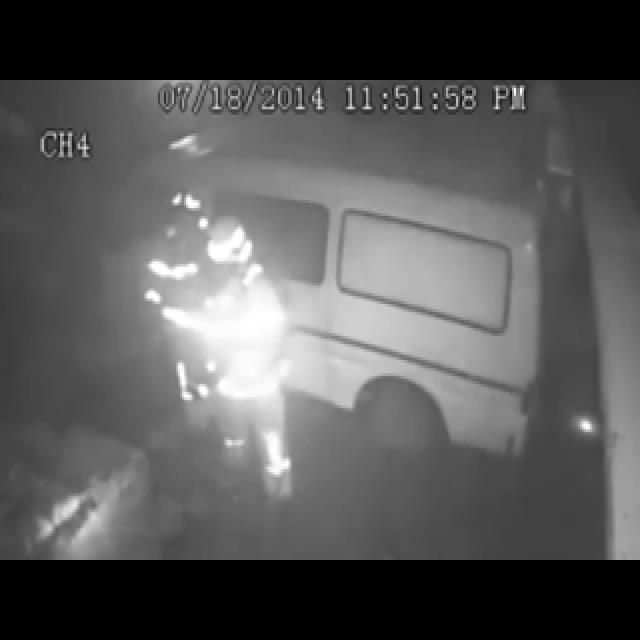arson: (8, 146, 272, 525)
